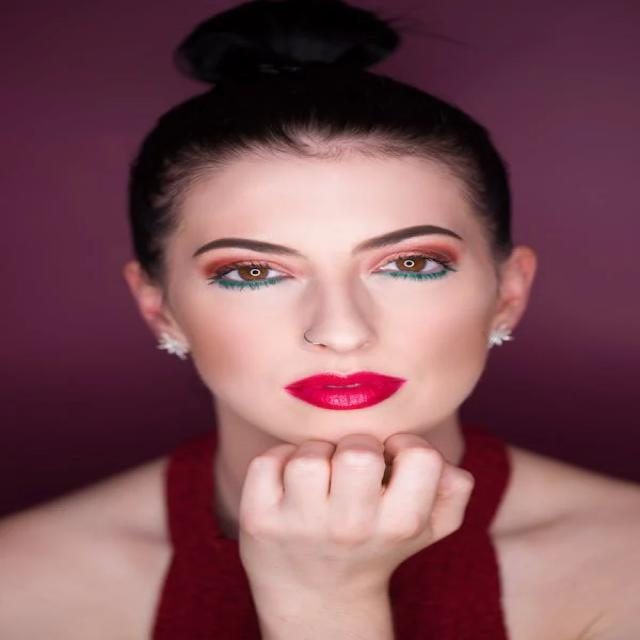no_mask: (128, 108, 540, 472)
